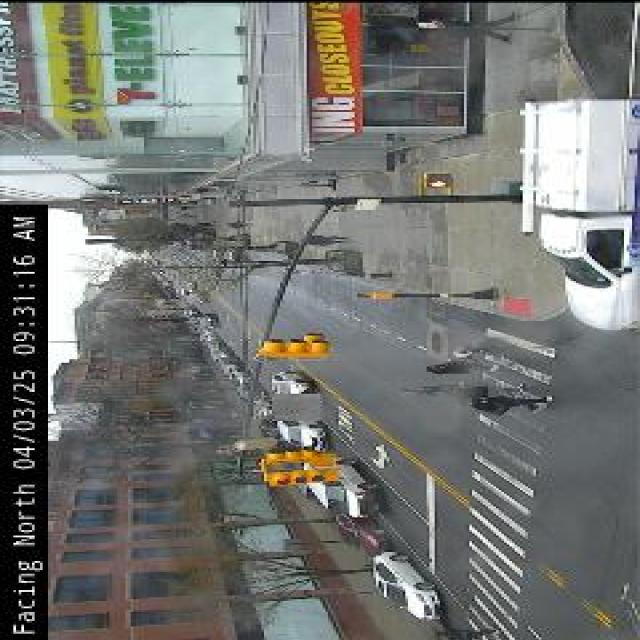parkedCars: (263, 510, 435, 614), (165, 308, 264, 416)
